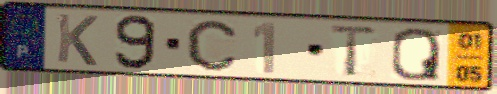1: (251, 20, 279, 75)
9: (113, 13, 158, 71)
C: (184, 18, 239, 73)
K: (54, 11, 101, 69)
Q: (389, 26, 443, 83)
T: (328, 23, 381, 79)
